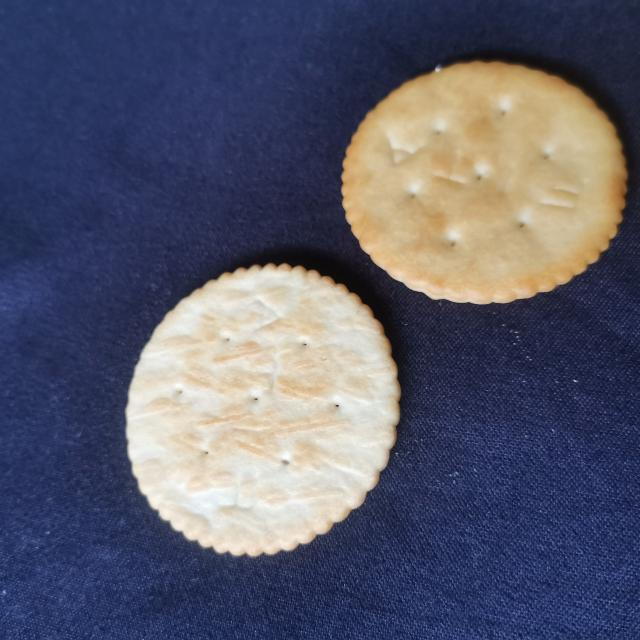Intact: (113, 254, 411, 565), (329, 48, 637, 314)
